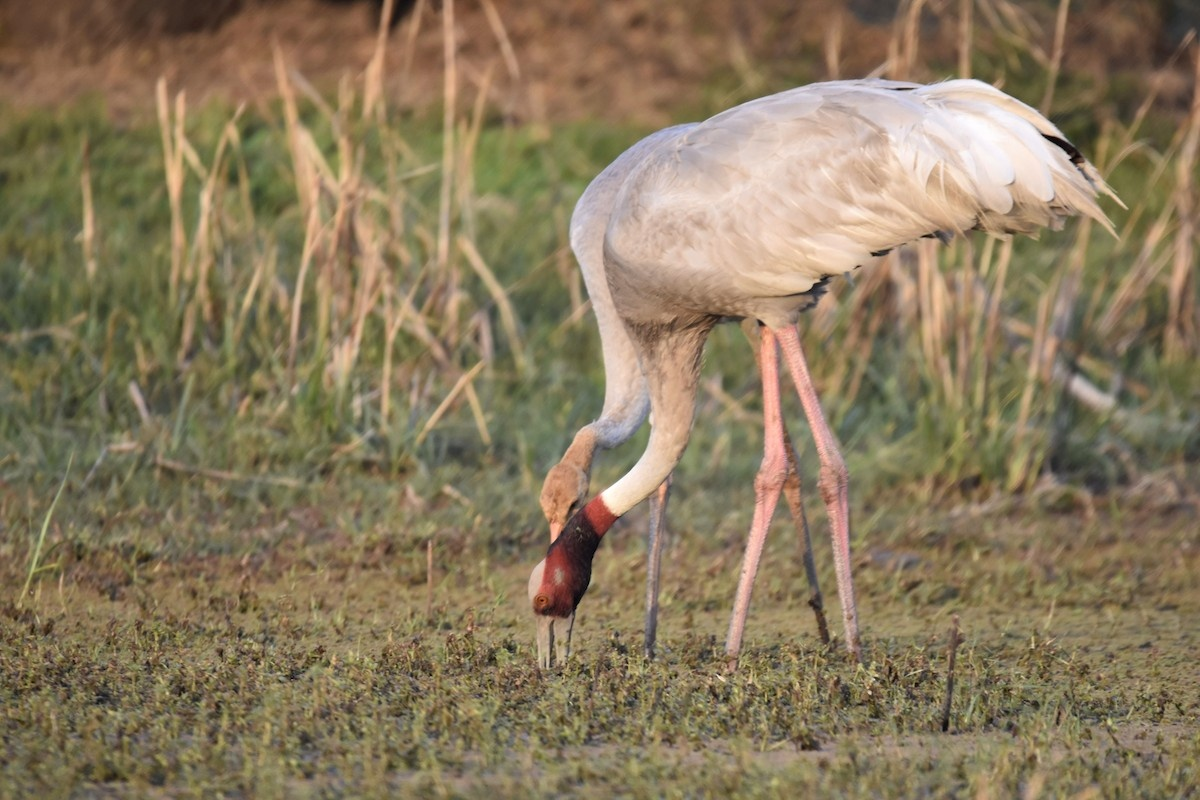crane: (528, 72, 1125, 678)
